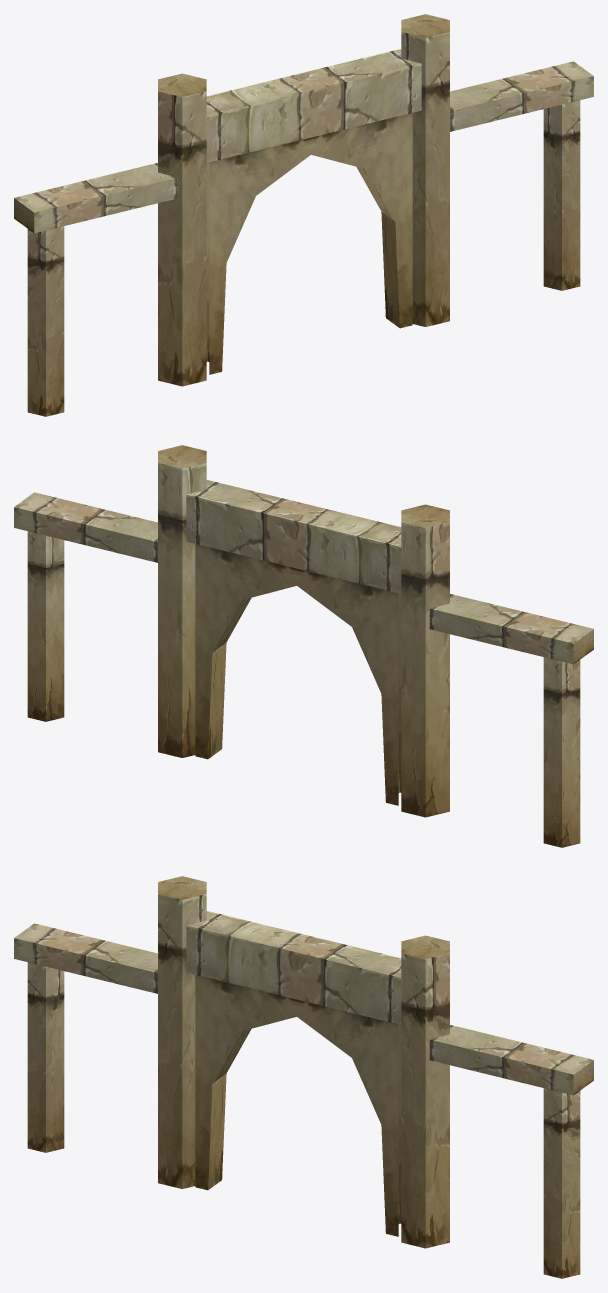
The model's file is shamo_gongmen_1.fbx.
3 views of the same model, one above another, from view 1: azimuth 30°, elevation 25°; view 2: azimuth 150°, elevation 25°; view 3: azimuth 330°, elevation 25° (orthographic).
Parts seen in each view (by area): view 1: polySurface159, polySurface152, polySurface155, polySurface156, polySurface153, polySurface157, polySurface154, polySurface158; view 2: polySurface159, polySurface152, polySurface155, polySurface156, polySurface153, polySurface157, polySurface154, polySurface158; view 3: polySurface159, polySurface156, polySurface155, polySurface152, polySurface157, polySurface153, polySurface158, polySurface154.
Part boxes in pixels (left/top/right/bottom): polySurface159: left=206, top=113, right=412, bottom=374; polySurface152: left=158, top=73, right=206, bottom=386; polySurface155: left=206, top=49, right=421, bottom=162; polySurface156: left=401, top=14, right=449, bottom=326; polySurface153: left=27, top=226, right=64, bottom=416; polySurface157: left=543, top=100, right=580, bottom=290; polySurface154: left=14, top=163, right=178, bottom=233; polySurface158: left=450, top=61, right=593, bottom=131; polySurface159: left=195, top=544, right=401, bottom=805; polySurface152: left=401, top=504, right=449, bottom=817; polySurface155: left=186, top=480, right=401, bottom=593; polySurface156: left=158, top=445, right=206, bottom=757; polySurface153: left=543, top=657, right=580, bottom=847; polySurface157: left=27, top=531, right=64, bottom=721; polySurface154: left=429, top=594, right=593, bottom=664; polySurface158: left=14, top=492, right=157, bottom=562; polySurface159: left=195, top=975, right=401, bottom=1236; polySurface156: left=401, top=935, right=449, bottom=1248; polySurface155: left=186, top=911, right=401, bottom=1024; polySurface152: left=158, top=876, right=206, bottom=1188; polySurface157: left=543, top=1088, right=580, bottom=1278; polySurface153: left=27, top=962, right=64, bottom=1152; polySurface158: left=429, top=1025, right=593, bottom=1095; polySurface154: left=14, top=923, right=157, bottom=993.
Size of the model in its own units: 23.01 by 11.36 by 1.73.
